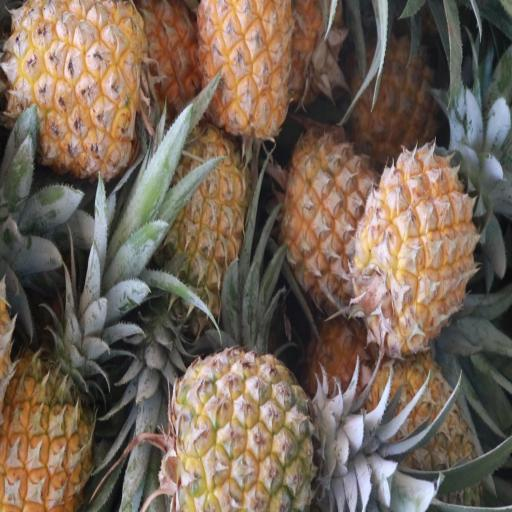------------------------------: (172, 360, 332, 510), (283, 142, 378, 322), (367, 359, 477, 507)
Pineapple - v8 v1: (357, 156, 476, 356), (8, 0, 142, 174), (161, 146, 251, 350), (0, 352, 99, 510), (202, 0, 295, 145), (355, 42, 441, 165)
